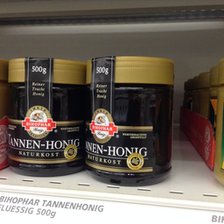honey: (88, 56, 177, 189), (11, 58, 87, 177)
